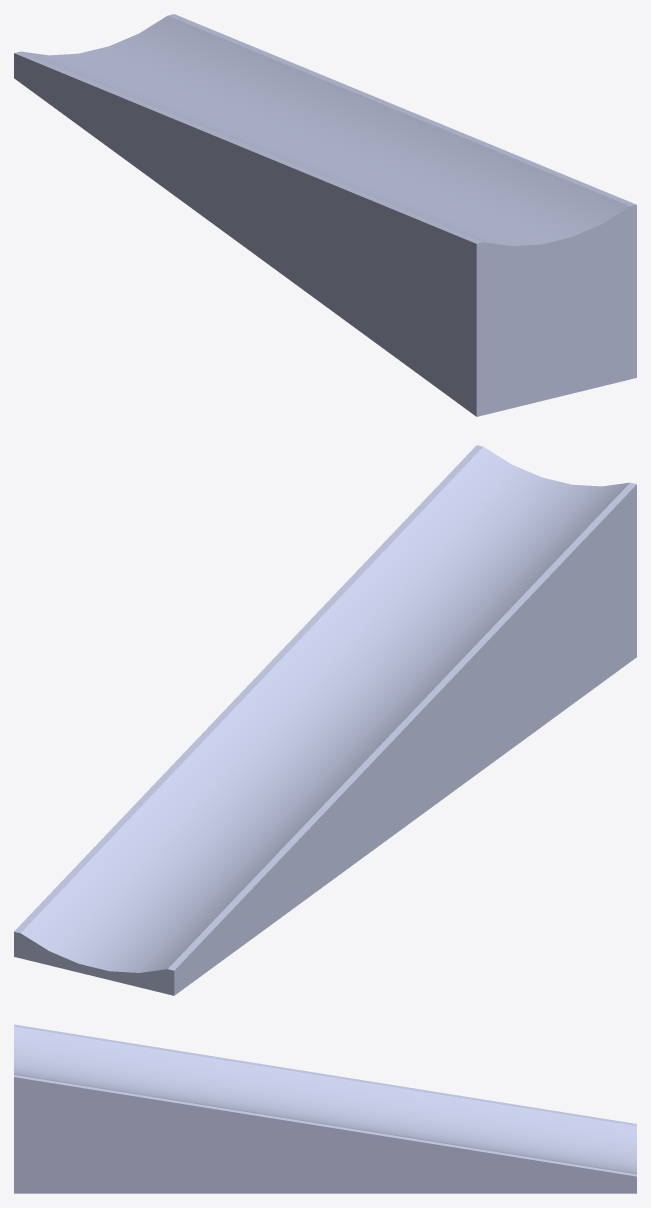
The model's file is SimpleRamp.FBX.
3 views of the same model, one above another, from view 1: azimuth 30°, elevation 25°; view 2: azimuth 150°, elevation 25°; view 3: azimuth 270°, elevation 25° (orthographic). The views are drawn at different scales.
Visible parts, largest first — view 1: Body-Move/Copy1; view 2: Body-Move/Copy1; view 3: Body-Move/Copy1.
Part boxes in pixels (x1,y1,x2,y2): Body-Move/Copy1: [14, 14, 636, 416]; Body-Move/Copy1: [14, 445, 636, 995]; Body-Move/Copy1: [14, 1024, 636, 1193].
Bounding box in the file's own units: 0.7874 × 3.94 × 0.8123.
